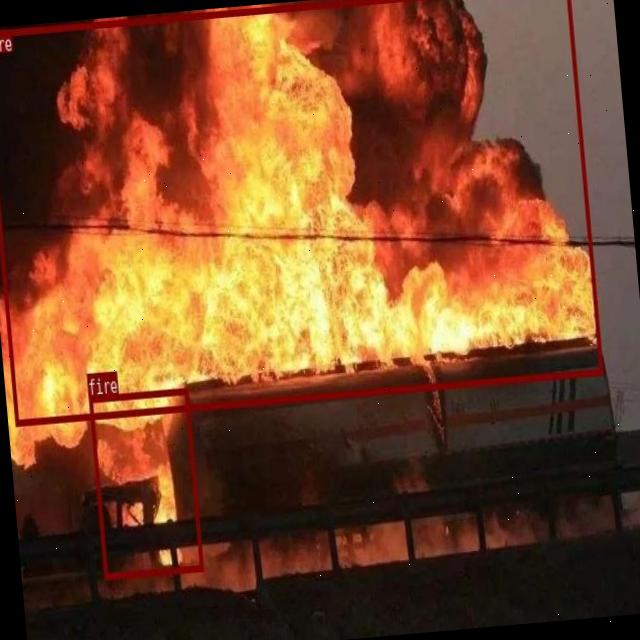fire: (0, 0, 602, 425), (88, 387, 202, 579)
